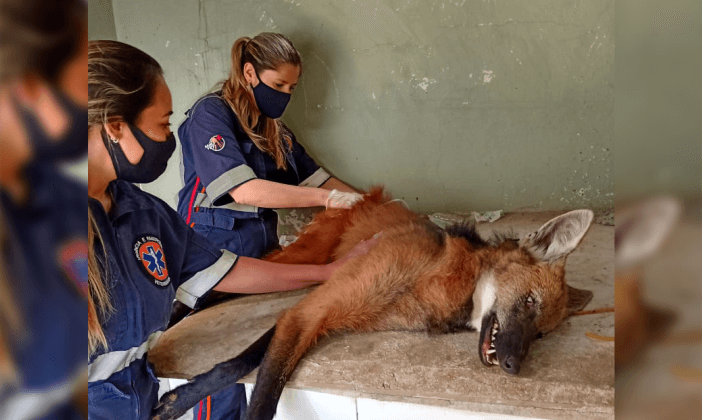LoboGuara: (301, 181, 604, 389)
